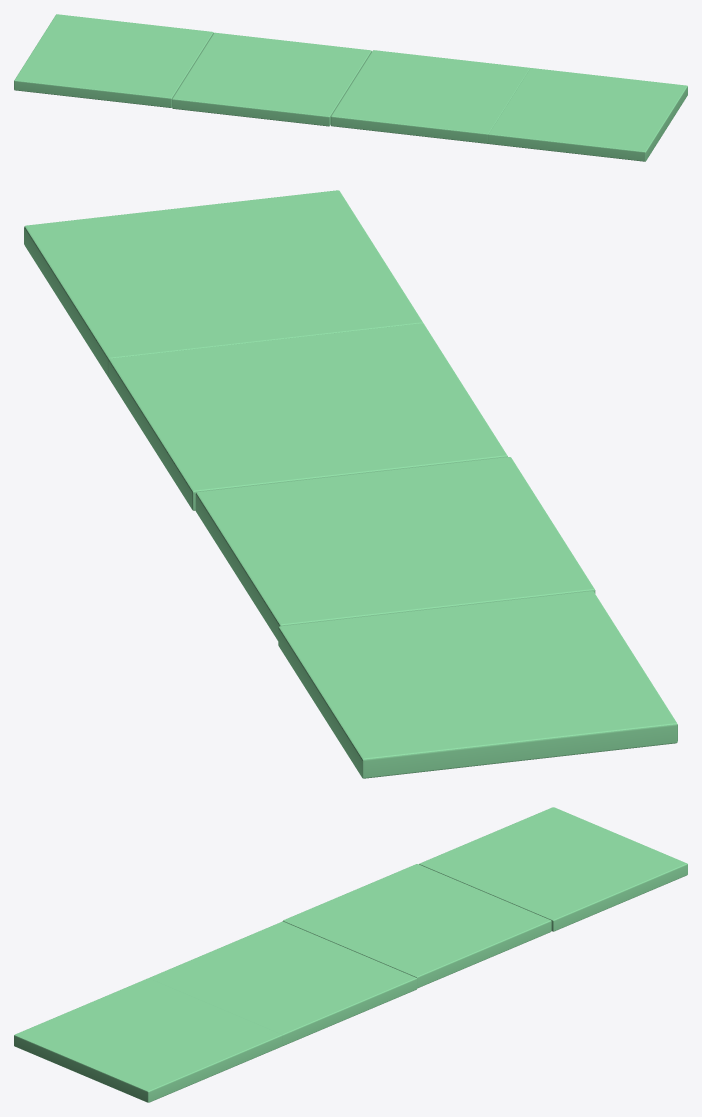
Rendered from sidewalk.fbx.
The picture shows the model from 3 angles, top to bottom: view 1: azimuth 30°, elevation 25°; view 2: azimuth 150°, elevation 25°; view 3: azimuth 270°, elevation 25°; orthographic projection. The views are drawn at different scales.
Visible parts, largest first — view 1: sidewalk4, sidewalk2, sidewalk, sidewalk3; view 2: sidewalk, sidewalk3, sidewalk2, sidewalk4; view 3: sidewalk4, sidewalk, sidewalk2, sidewalk3.
Part boxes in pixels (box(x1,y1,x2,y2)): sidewalk4: box(488, 68, 687, 161); sidewalk2: box(172, 32, 371, 126); sidewalk: box(14, 14, 213, 107); sidewalk3: box(331, 50, 529, 143); sidewalk: box(278, 591, 677, 778); sidewalk3: box(108, 323, 507, 510); sidewalk2: box(195, 457, 595, 640); sidewalk4: box(24, 190, 423, 377); sidewalk4: box(14, 978, 282, 1102); sidewalk: box(419, 807, 687, 931); sidewalk2: box(282, 864, 551, 988); sidewalk3: box(149, 921, 417, 1045).
Size of what is drawn, in the model's own units: 3312 by 3312 by 64.7.
